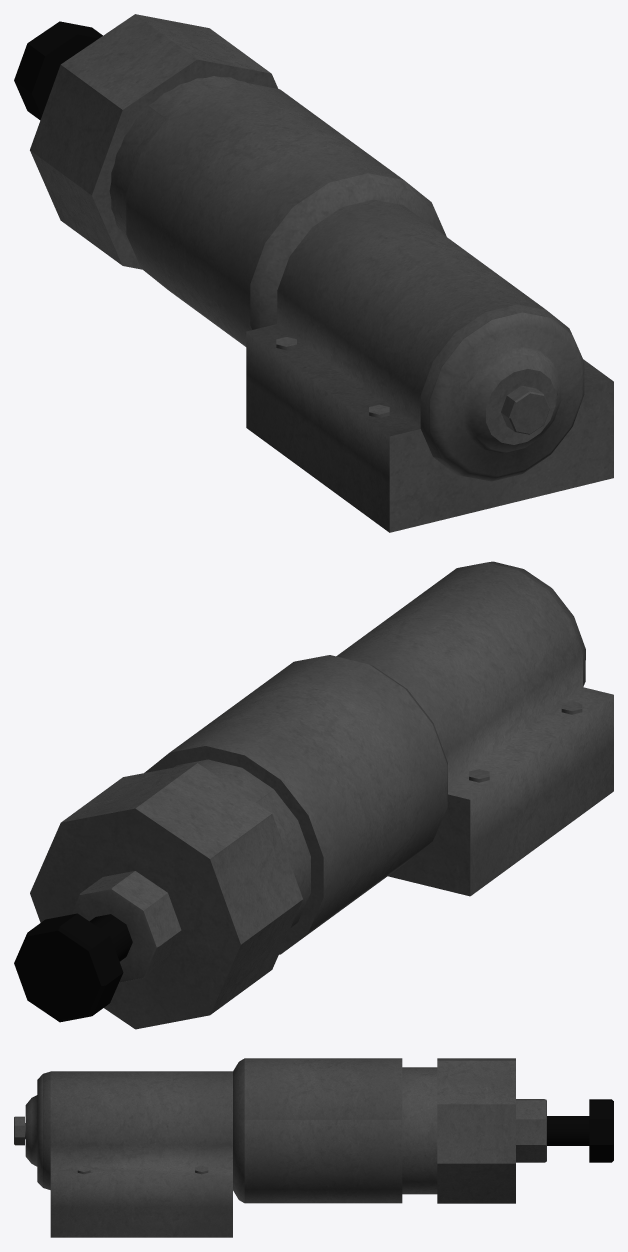
File: PistonPump.FBX
3 renders of one model, top to bottom at view 1: azimuth 30°, elevation 25°; view 2: azimuth 150°, elevation 25°; view 3: azimuth 270°, elevation 25°, orthographic. The views are drawn at different scales.
Parts seen in each view (by area): view 1: Pressure Compensator Valve, Compensator Valve Cover, Pressure Compensator Adjustment Screw; view 2: Pressure Compensator Valve, Compensator Valve Cover, Pressure Compensator Adjustment Screw; view 3: Pressure Compensator Valve, Compensator Valve Cover, Pressure Compensator Adjustment Screw.
Part boxes in pixels (x1,y1,x2,y2): Pressure Compensator Valve: (109,76,613,532); Compensator Valve Cover: (30,14,278,269); Pressure Compensator Adjustment Screw: (14,21,102,120); Pressure Compensator Valve: (144,561,613,954); Compensator Valve Cover: (30,763,302,1029); Pressure Compensator Adjustment Screw: (14,913,132,1022); Pressure Compensator Valve: (14,1058,437,1237); Compensator Valve Cover: (437,1058,546,1203); Pressure Compensator Adjustment Screw: (547,1099,613,1162).
Bounding box in the file's own units: 81.11 × 77.26 × 296.
